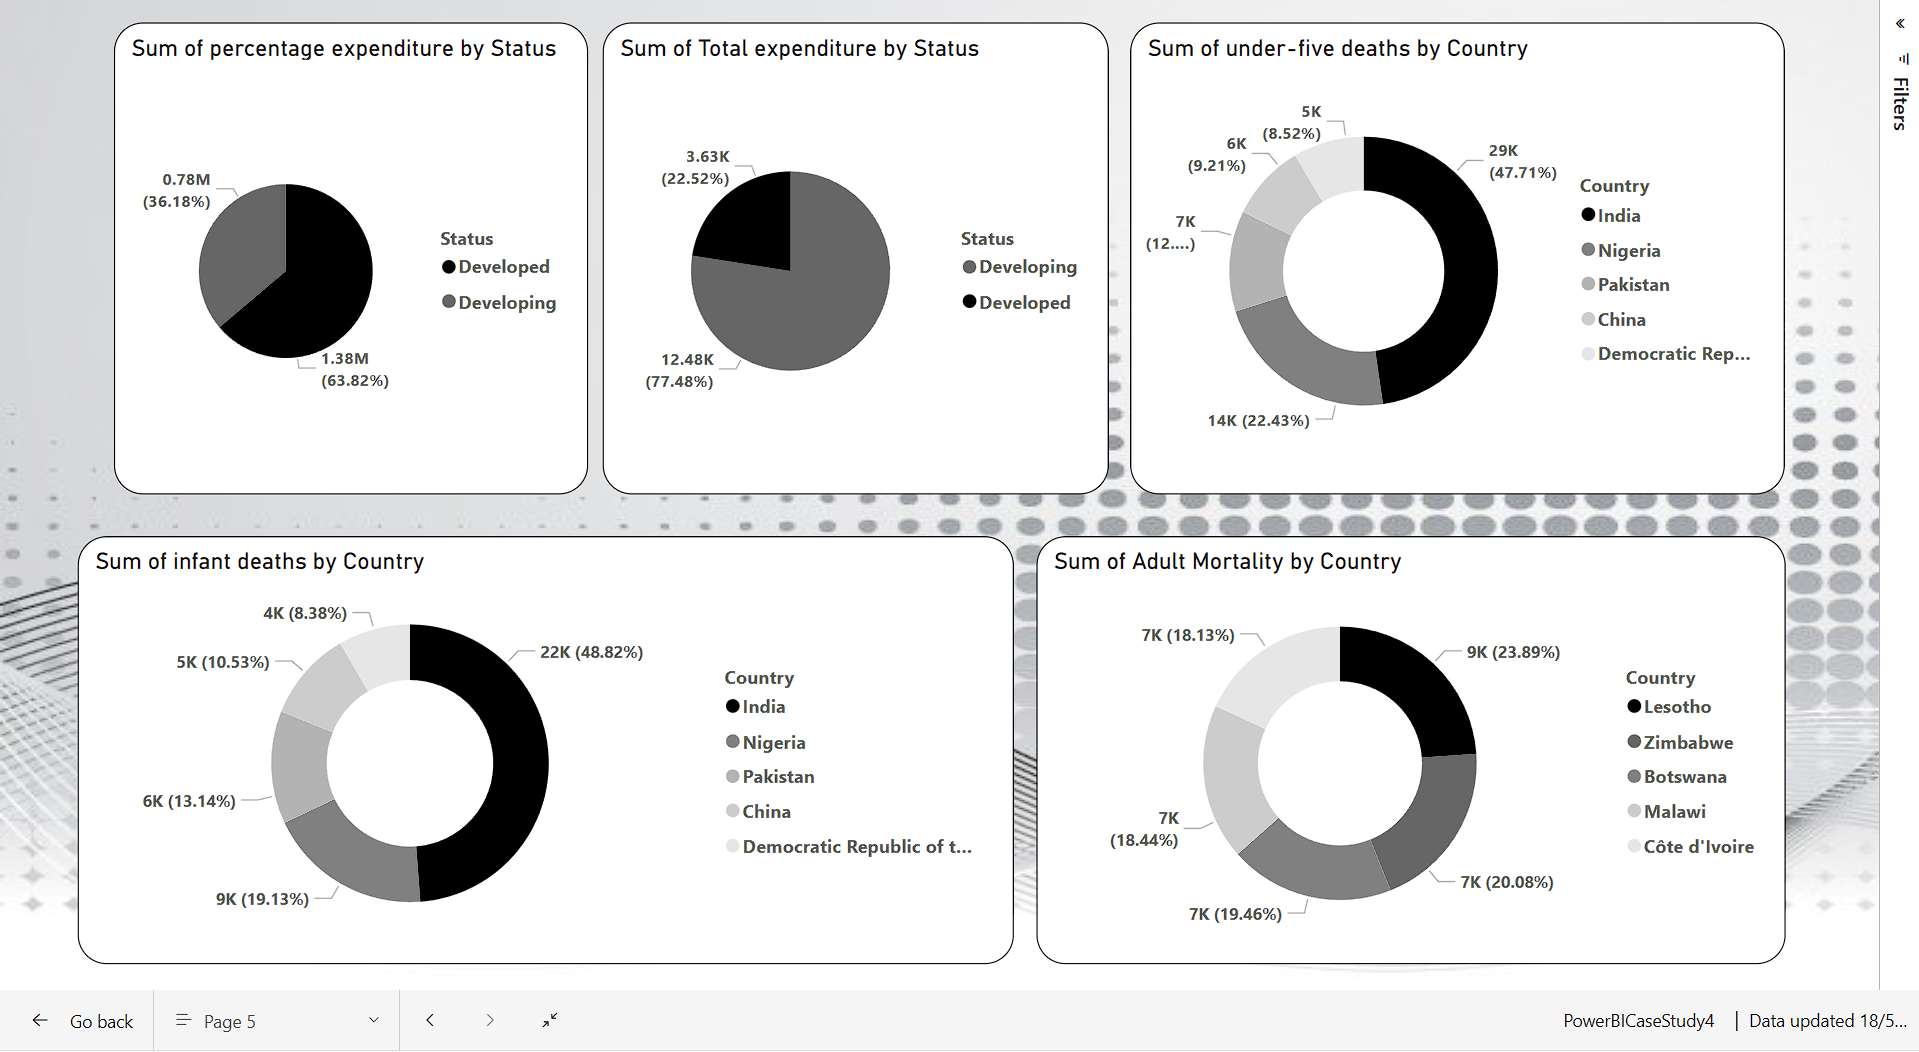

This screenshot's page, from the dashboard's own definition file:
{"tool":"powerbi","page":{"name":"Page 5","canvas":[1280,720],"ordinal":4},"visuals":[{"type":"pieChart","fields":{"Category":["Life Expectancy Data.Status"],"Y":["Sum(Life Expectancy Data.percentage expenditure)"]},"box":[13.7,16.2,370.7,343.3],"z":0},{"type":"pieChart","fields":{"Category":["Life Expectancy Data.Status"],"Y":["Sum(Life Expectancy Data.Total expenditure)"]},"box":[395.2,16.5,367.8,343.1],"z":1000},{"type":"donutChart","fields":{"Y":["Sum(Life Expectancy Data.under-five deaths )"],"Category":["Life Expectancy Data.Country"]},"box":[779.4,16.5,476.2,343.1],"z":2000},{"type":"donutChart","fields":{"Category":["Life Expectancy Data.Country"],"Y":["Sum(Life Expectancy Data.infant deaths)"]},"box":[13.7,389.7,680.6,311.5],"z":3000},{"type":"donutChart","fields":{"Category":["Life Expectancy Data.Country"],"Y":["Sum(Life Expectancy Data.Adult Mortality)"]},"box":[710.8,389.7,544.8,311.5],"z":4000}]}

Visuals, with their boxes in screenshot pixels (x1, y1, x2, y2):
pieChart - Life Expectancy Data.Status x Sum(Life Expectancy Data.percentage expenditure): 59 13 575 491
pieChart - Life Expectancy Data.Status x Sum(Life Expectancy Data.Total expenditure): 591 13 1103 491
donutChart - Sum(Life Expectancy Data.under-five deaths ) x Life Expectancy Data.Country: 1126 13 1789 491
donutChart - Life Expectancy Data.Country x Sum(Life Expectancy Data.infant deaths): 59 533 1007 967
donutChart - Life Expectancy Data.Country x Sum(Life Expectancy Data.Adult Mortality): 1030 533 1789 967
